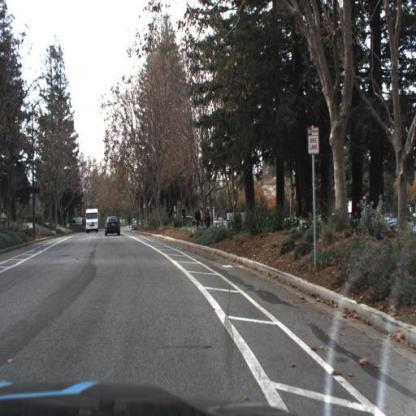car: (105, 217, 122, 238)
pedestrian: (183, 204, 188, 227), (205, 210, 211, 228), (197, 209, 202, 230), (202, 208, 205, 230)
truck: (86, 207, 100, 234), (86, 209, 100, 233)
